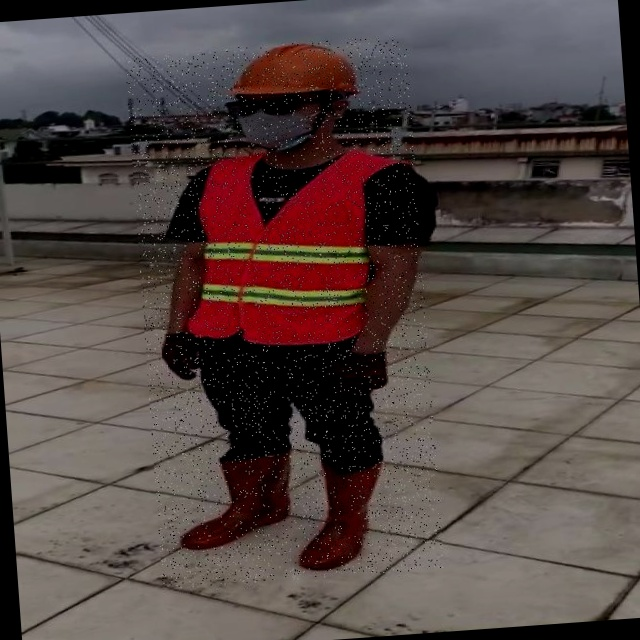boots: (354, 441, 473, 543), (266, 465, 358, 570)
gloves: (252, 352, 316, 398), (442, 319, 479, 371)
helmet: (249, 42, 395, 99)
vest: (265, 153, 450, 345)
